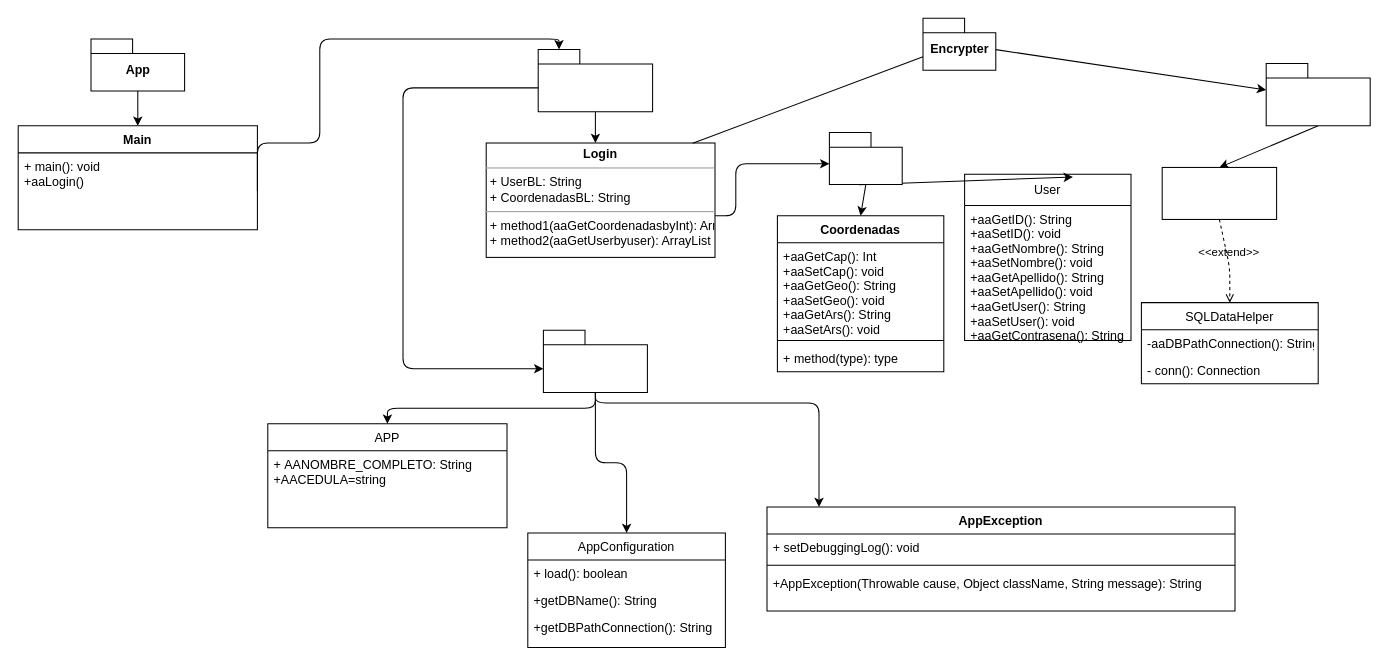
Image size: 1388x669. Some labels were removed from this diagram. Each missing label, with the centre of its shape:
"BusinessLogic" goes at point 595,80.
"DataAccess" goes at point 1317,94.
"Entities" goes at point 865,158.
"Framework" goes at point 594,361.
"UserDAC" goes at point 1219,192.
